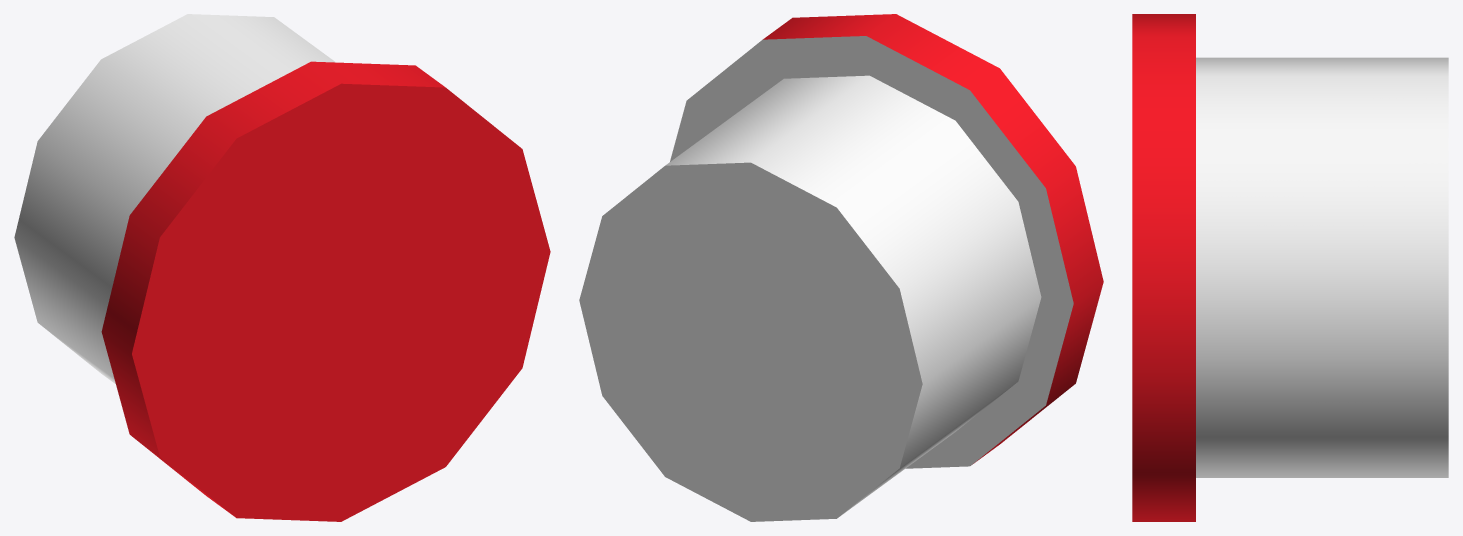
File: toad.fbx
3 renders of one model, left to right at view 1: azimuth 30°, elevation 25°; view 2: azimuth 150°, elevation 25°; view 3: azimuth 270°, elevation 25°, orthographic. The views are drawn at different scales.
Parts seen in each view (by area): view 1: Model; view 2: Model; view 3: Model.
Boxes of the visible parts, x1,y1,x2,y2 form: Model: (14, 14, 550, 521); Model: (579, 14, 1103, 521); Model: (1132, 14, 1448, 521).
Bounding box in the file's own units: 2.32 × 2.32 × 1.44.
